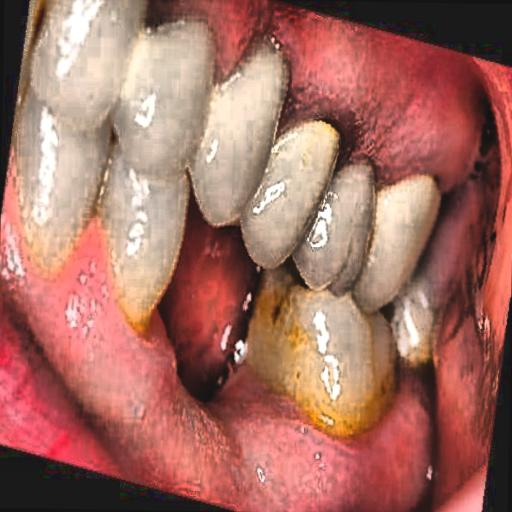Gingivitis: (213, 335, 444, 512), (278, 35, 472, 189)
